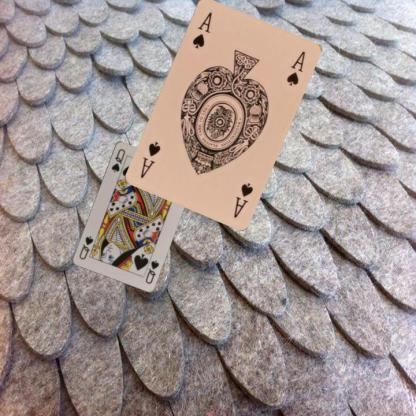As: (190, 9, 214, 50), (230, 179, 254, 219)
Qs: (108, 146, 126, 174), (142, 258, 160, 285)
